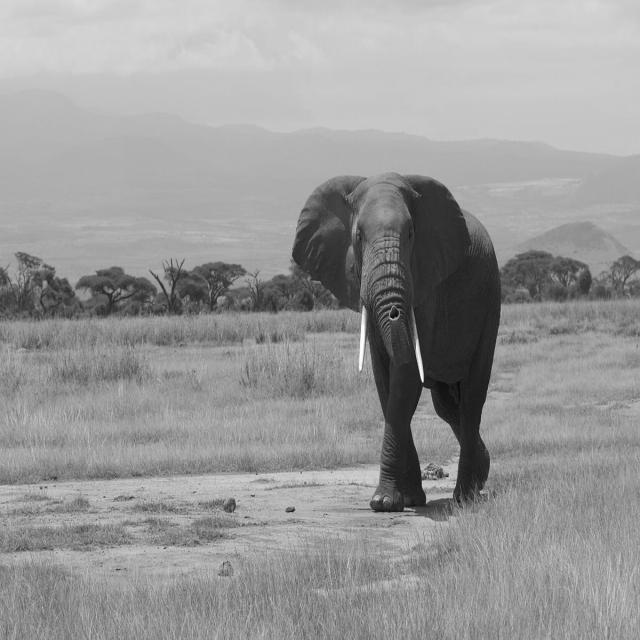Elephant: (261, 107, 530, 528)
